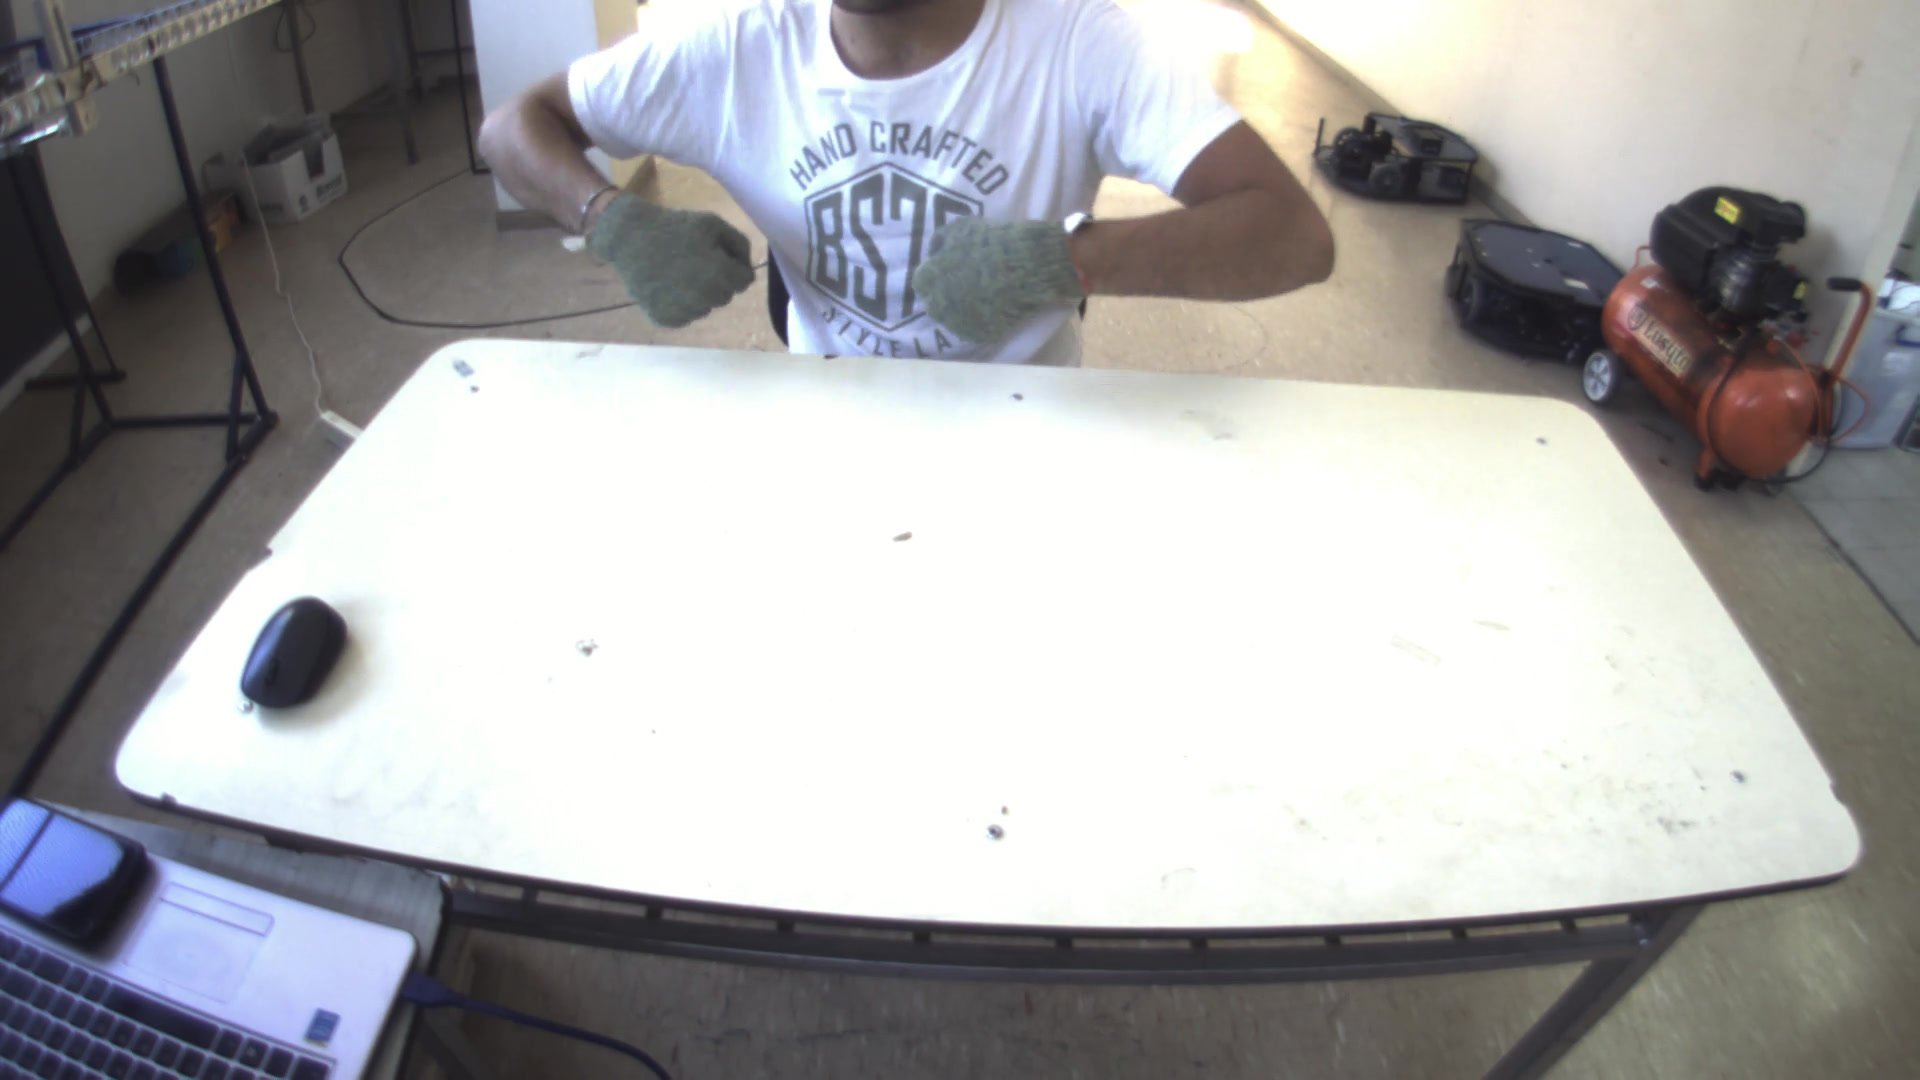hand: (571, 178, 767, 327), (907, 202, 1081, 328)
